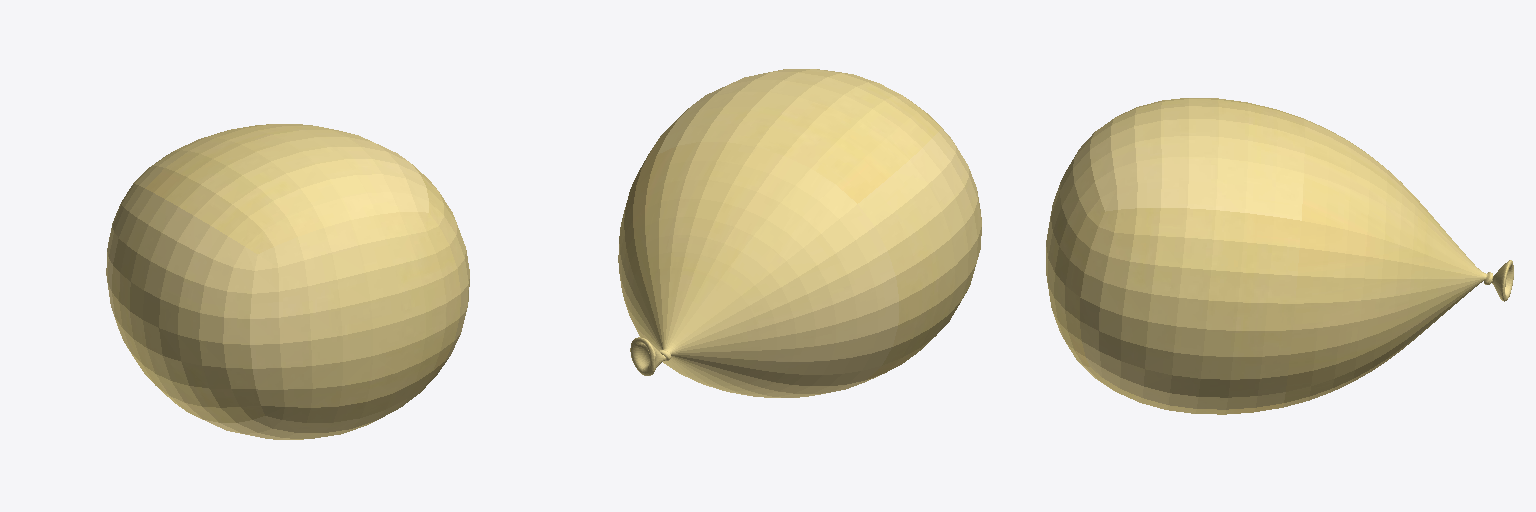
3 views of the same model, side by side, from view 1: azimuth 30°, elevation 25°; view 2: azimuth 150°, elevation 25°; view 3: azimuth 270°, elevation 25° (orthographic).
Parts seen in each view (by area): view 1: Balloon_003; view 2: Balloon_003; view 3: Balloon_003.
Boxes of the visible parts, x1=… form: Balloon_003: x1=106, y1=124, x2=469, y2=439; Balloon_003: x1=618, y1=69, x2=981, y2=397; Balloon_003: x1=1046, y1=98, x2=1513, y2=414.
Bounding box in the file's own units: 5.7 × 4.98 × 7.7.
1 materials, 1 textured.